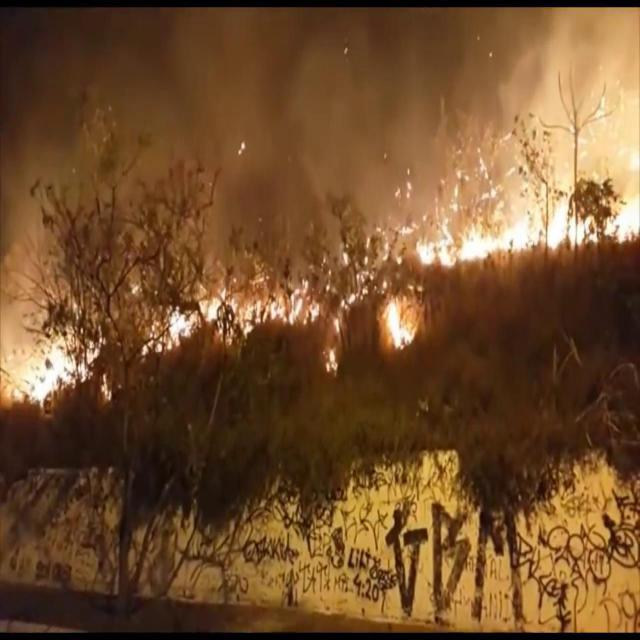Fire: (417, 127, 637, 261), (134, 268, 320, 342), (2, 324, 101, 410), (332, 247, 368, 328), (382, 300, 416, 346), (324, 342, 339, 376)
